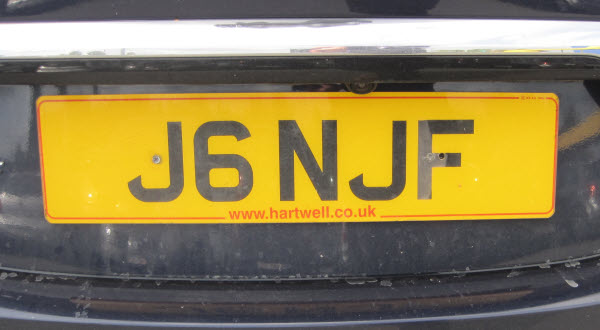license_plate: (36, 92, 557, 224)
